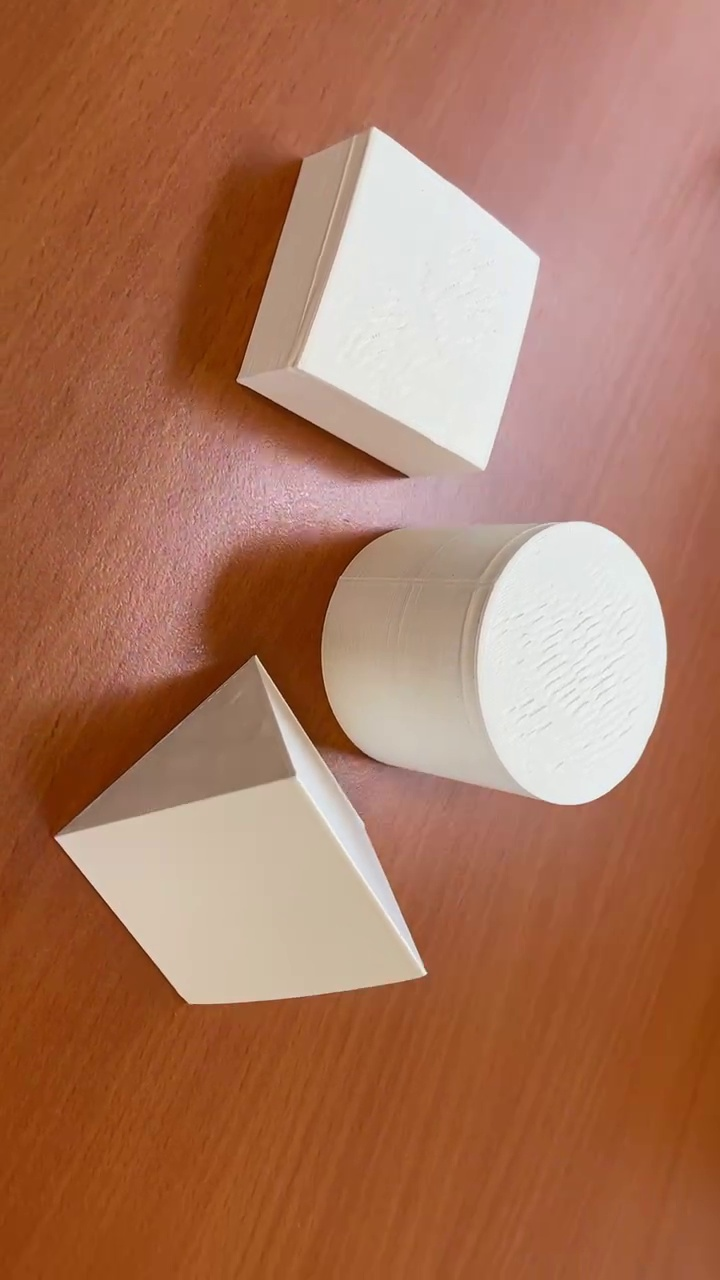Cube_short: (227, 124, 541, 485)
Cylinder: (319, 518, 668, 807)
Triangle: (50, 656, 426, 1009)
